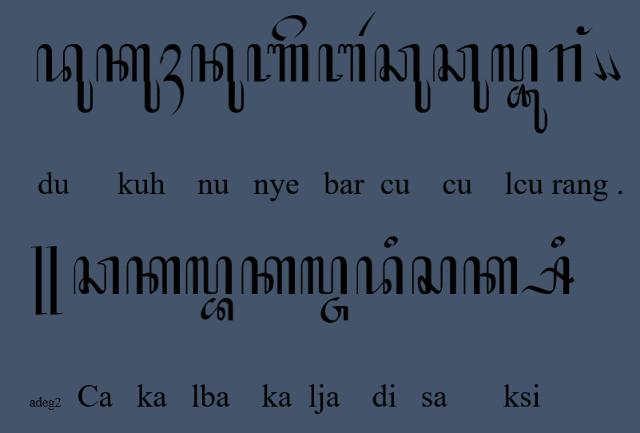_cu: (508, 84, 548, 134)
_h1: (158, 42, 184, 116)
_r1: (357, 8, 377, 38)
_s: (520, 255, 574, 296)
adeg2: (31, 245, 63, 315)
b: (318, 43, 367, 83)
c: (73, 255, 121, 296)
cu: (432, 43, 491, 114), (373, 43, 431, 114)
d: (355, 255, 405, 297)
du: (35, 42, 93, 114)
e: (270, 13, 308, 43)
i: (383, 235, 399, 249), (550, 235, 566, 249)
j: (319, 296, 349, 324)
k: (240, 255, 296, 297), (462, 255, 518, 296), (126, 256, 182, 296), (185, 256, 233, 294), (300, 256, 348, 294)
kom: (592, 48, 608, 82), (607, 48, 621, 82)
ku: (95, 43, 161, 114)
l: (490, 43, 540, 83), (200, 296, 234, 322)
ng: (575, 26, 593, 36)
nu: (190, 43, 244, 114)
ny1: (248, 42, 310, 84)
r: (549, 43, 583, 83)
s: (412, 255, 458, 296)
